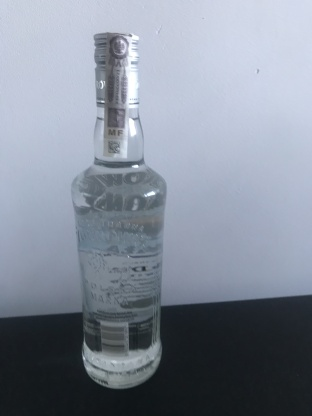nakretka: (91, 27, 142, 112)
